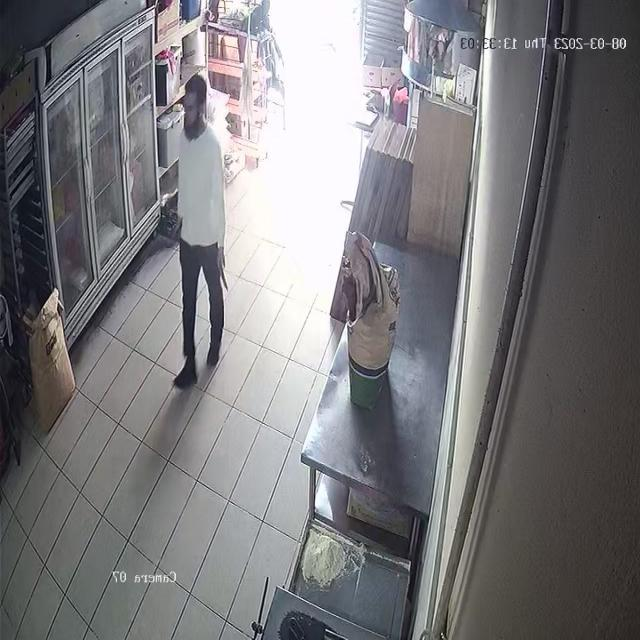Knife: (210, 238, 241, 300)
